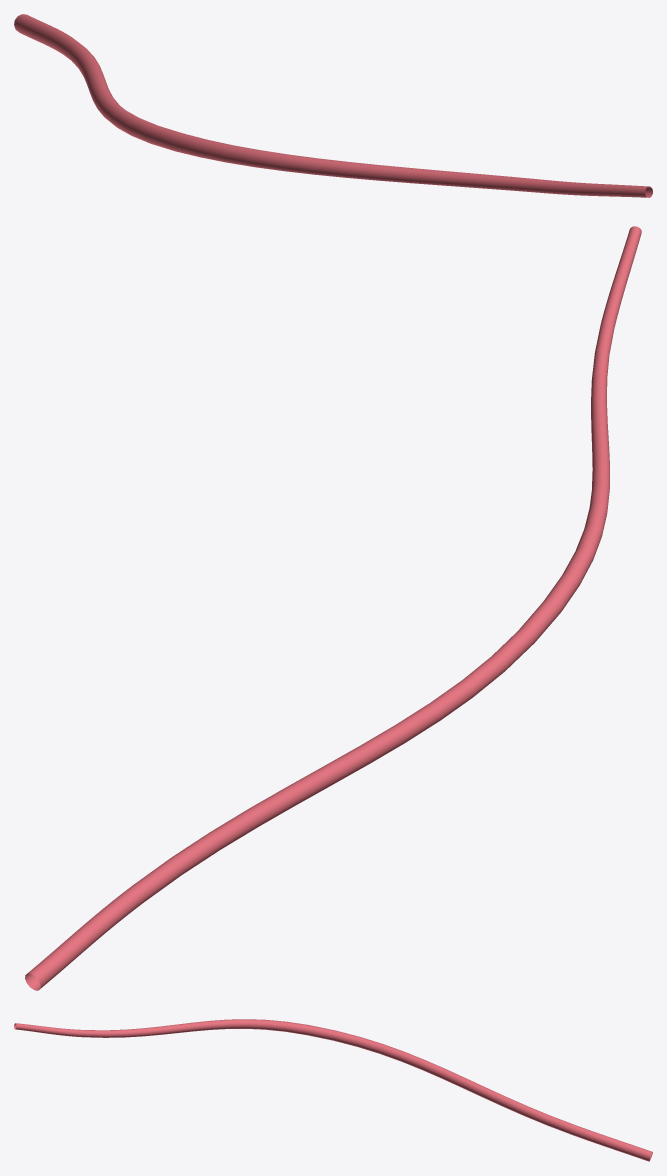
3 renders of one model, top to bottom at view 1: azimuth 30°, elevation 25°; view 2: azimuth 150°, elevation 25°; view 3: azimuth 270°, elevation 25°, orthographic. The views are drawn at different scales.
Parts seen in each view (by area): view 1: ZA_816410a404a7e83d; view 2: ZA_816410a404a7e83d; view 3: ZA_816410a404a7e83d.
Boxes of the visible parts, <box> form: ZA_816410a404a7e83d: <box>14,14,652,197</box>; ZA_816410a404a7e83d: <box>25,226,641,990</box>; ZA_816410a404a7e83d: <box>14,1019,652,1161</box>.
Bounding box in the file's own units: 0.0124 × 0.0154 × 0.0611.
